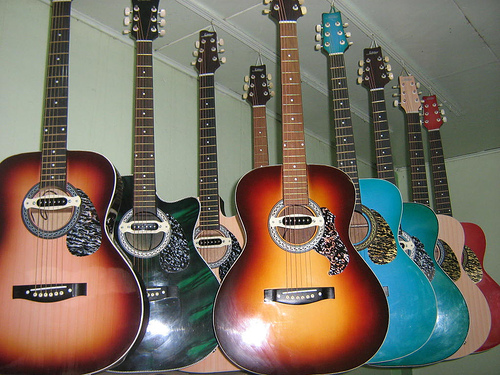guitar: (209, 1, 389, 373), (1, 1, 149, 371)
